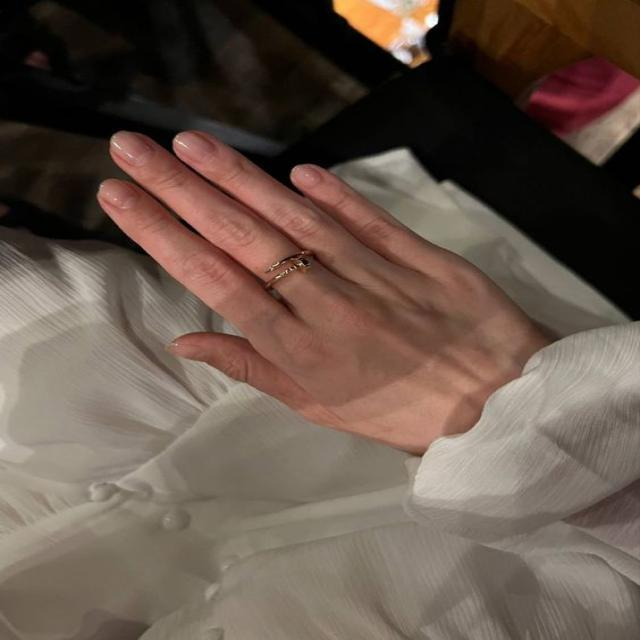Fingernail: (111, 131, 152, 169), (174, 132, 213, 165), (100, 179, 138, 209), (165, 345, 207, 362), (294, 166, 321, 190)
